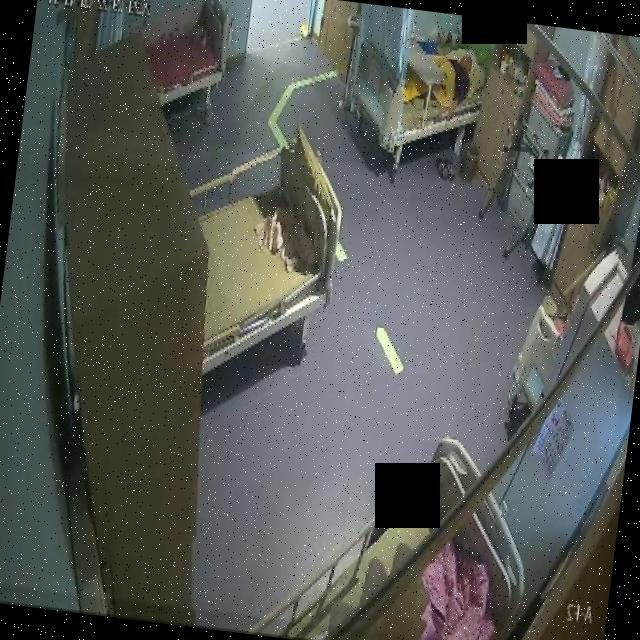bed: (277, 418, 542, 640), (199, 133, 352, 392), (342, 39, 484, 190), (155, 0, 236, 125)
